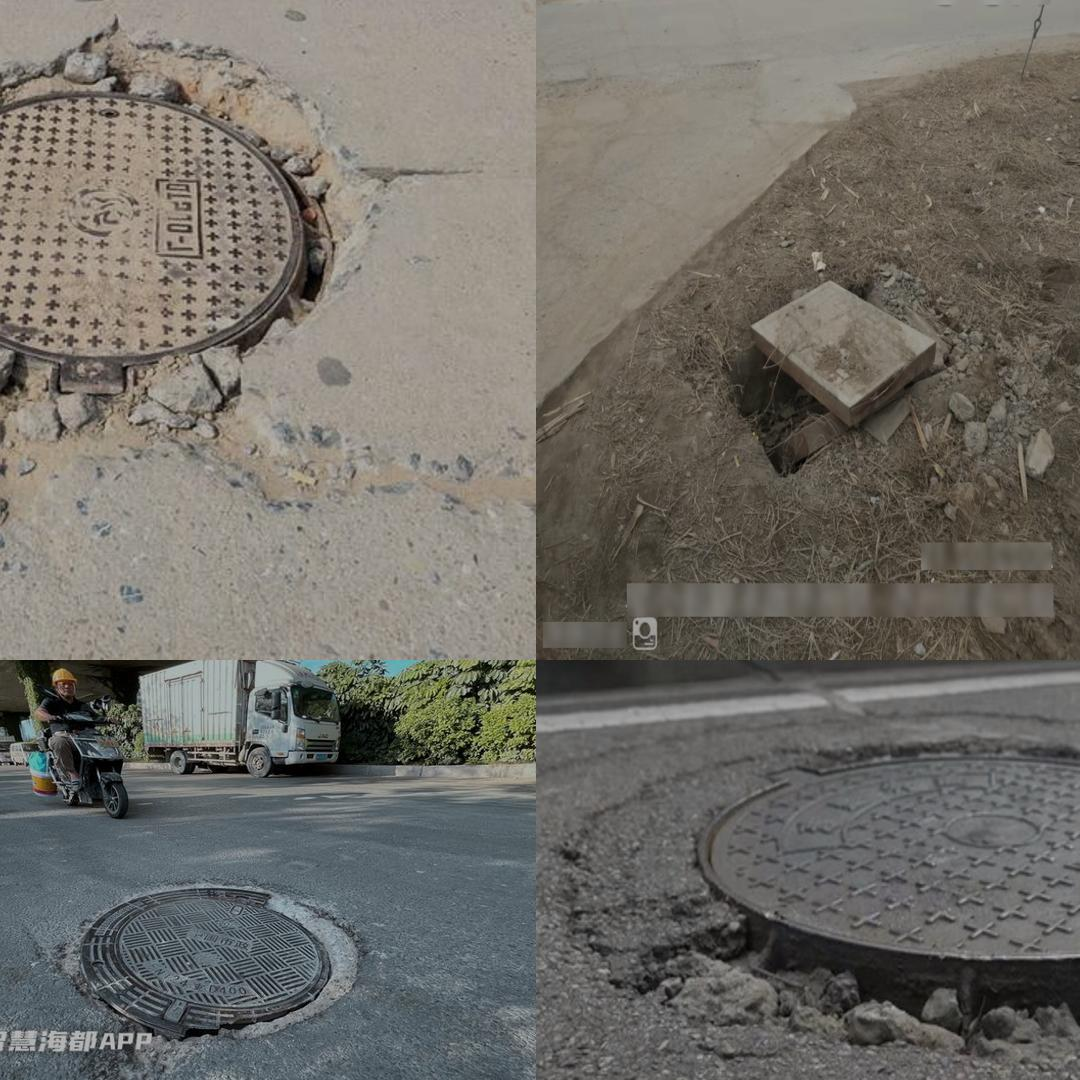circle: (561, 713, 1080, 1080), (0, 22, 403, 453), (26, 862, 406, 1058), (708, 257, 965, 495)
